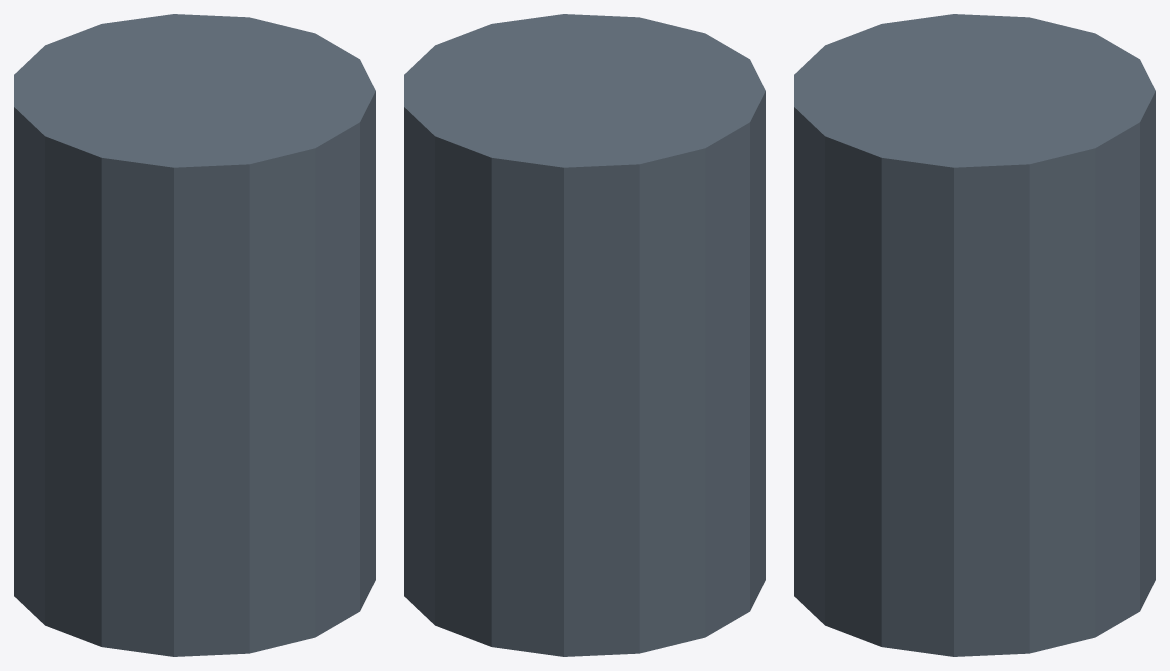
The model's file is Column11.fbx.
The picture shows the model from 3 angles, left to right: view 1: azimuth 30°, elevation 25°; view 2: azimuth 150°, elevation 25°; view 3: azimuth 270°, elevation 25°; orthographic projection.
Visible parts, largest first — view 1: Column11; view 2: Column11; view 3: Column11.
Part boxes in pixels (x1,y1,x2,y2): Column11: [14, 14, 375, 656]; Column11: [404, 14, 765, 656]; Column11: [794, 14, 1155, 656].
Size of the model in its own units: 41.77 by 62 by 41.54.
Materials: 1 (1 with a texture image).
